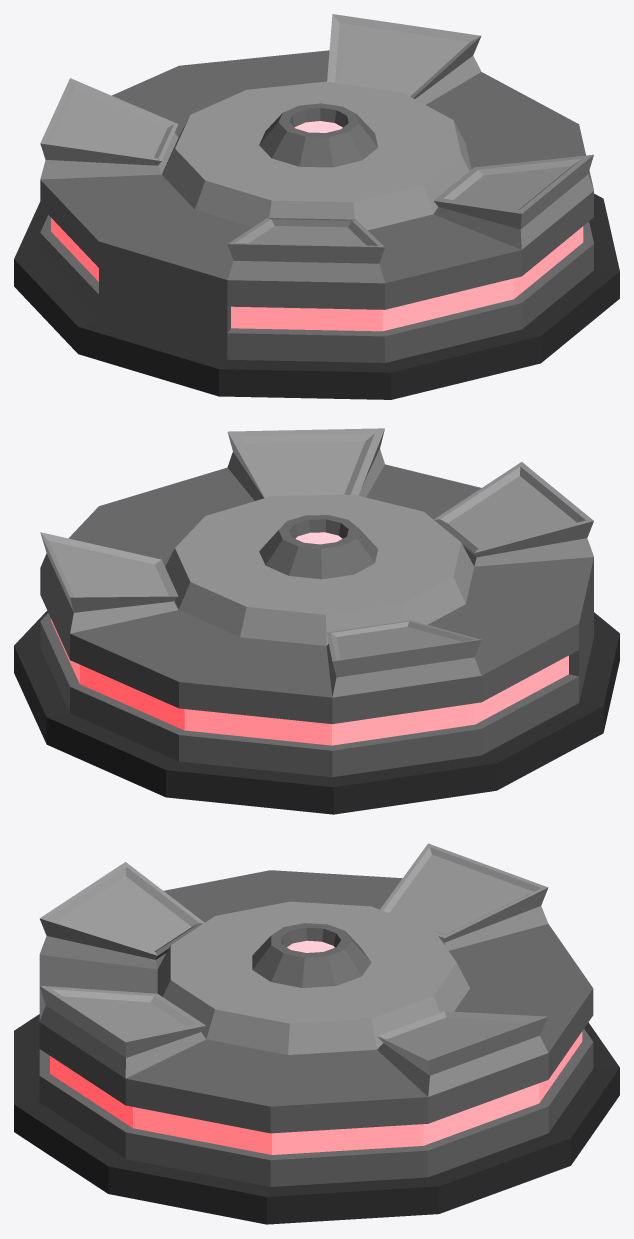
File: Landmine.fbx
The picture shows the model from 3 angles, top to bottom: view 1: azimuth 30°, elevation 25°; view 2: azimuth 150°, elevation 25°; view 3: azimuth 270°, elevation 25°; orthographic projection.
Visible parts, largest first — view 1: Cylinder; view 2: Cylinder; view 3: Cylinder.
Boxes of the visible parts, x1,y1,x2,y2 form: Cylinder: (14, 14, 619, 399); Cylinder: (14, 428, 619, 814); Cylinder: (14, 843, 619, 1224).
Size of the model in its own units: 217 by 60.48 by 214.
